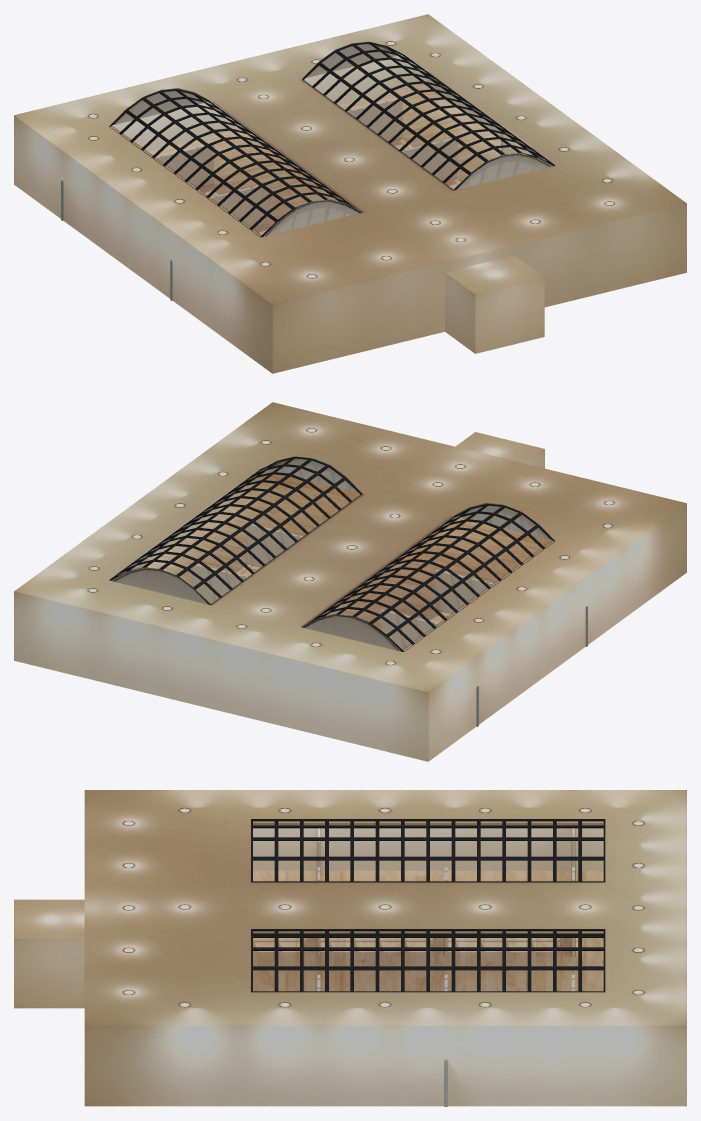
Rendered from art_gallery.glb.
The picture shows the model from 3 angles, top to bottom: view 1: azimuth 30°, elevation 25°; view 2: azimuth 150°, elevation 25°; view 3: azimuth 270°, elevation 25°; orthographic projection. The views are drawn at different scales.
Visible parts, largest first — view 1: Cube_pbr.001_0, Cube_pbr_1; view 2: Cube_pbr.001_0, Cube_pbr_1; view 3: Cube_pbr.001_0, Cube_pbr_1.
Boxes of the visible parts, left/top/right/bottom form: Cube_pbr.001_0: left=14, top=14, right=686, bottom=373; Cube_pbr_1: left=109, top=42, right=554, bottom=237; Cube_pbr.001_0: left=14, top=402, right=686, bottom=761; Cube_pbr_1: left=109, top=456, right=554, bottom=651; Cube_pbr.001_0: left=14, top=790, right=686, bottom=1106; Cube_pbr_1: left=251, top=819, right=605, bottom=992.
Size of the model in its own units: 44.02 by 9.39 by 52.89.
4 materials, 1 textured.
